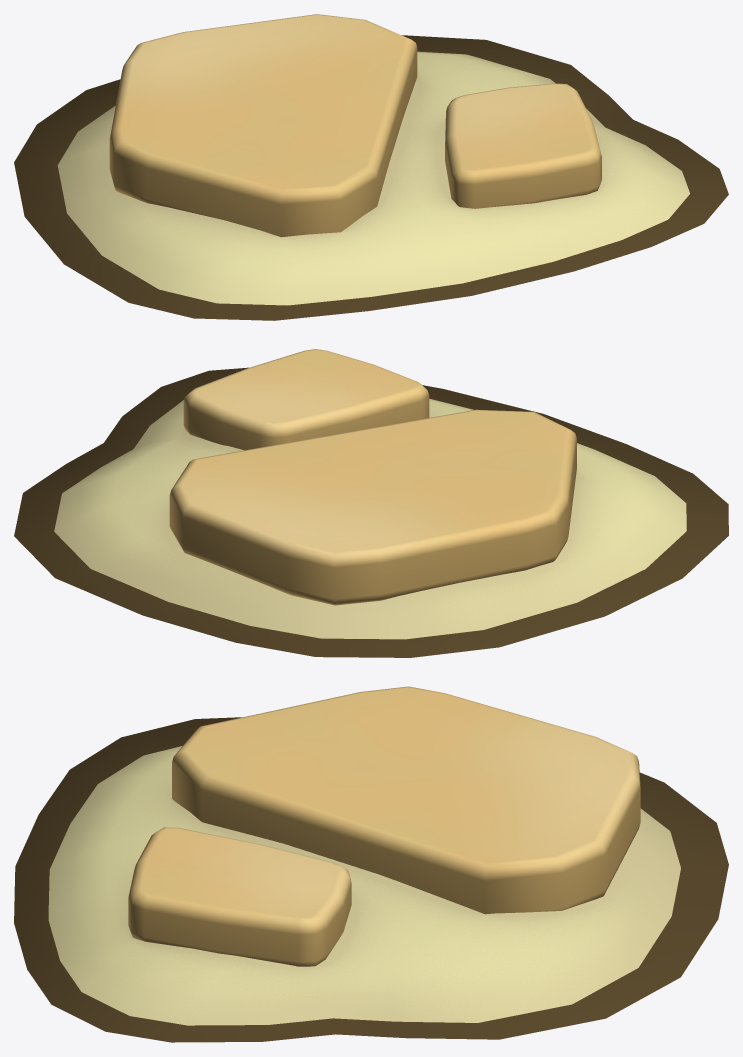
The model's file is E_Rock.fbx.
The picture shows the model from 3 angles, top to bottom: view 1: azimuth 30°, elevation 25°; view 2: azimuth 150°, elevation 25°; view 3: azimuth 270°, elevation 25°; orthographic projection. The views are drawn at different scales.
Visible parts, largest first — view 1: E_Rock_polySurface40, E_Rock_polySurface41; view 2: E_Rock_polySurface40, E_Rock_polySurface41; view 3: E_Rock_polySurface40, E_Rock_polySurface41.
Boxes of the visible parts, x1,y1,x2,y2 form: E_Rock_polySurface40: [57, 14, 689, 305]; E_Rock_polySurface41: [14, 35, 728, 320]; E_Rock_polySurface40: [54, 349, 686, 639]; E_Rock_polySurface41: [14, 367, 728, 657]; E_Rock_polySurface40: [48, 686, 680, 1025]; E_Rock_polySurface41: [14, 717, 728, 1042].
Size of the model in its own units: 103 by 11.92 by 95.02.
